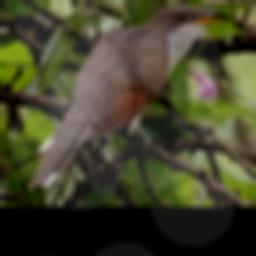Cuckoo: (27, 2, 230, 189)
